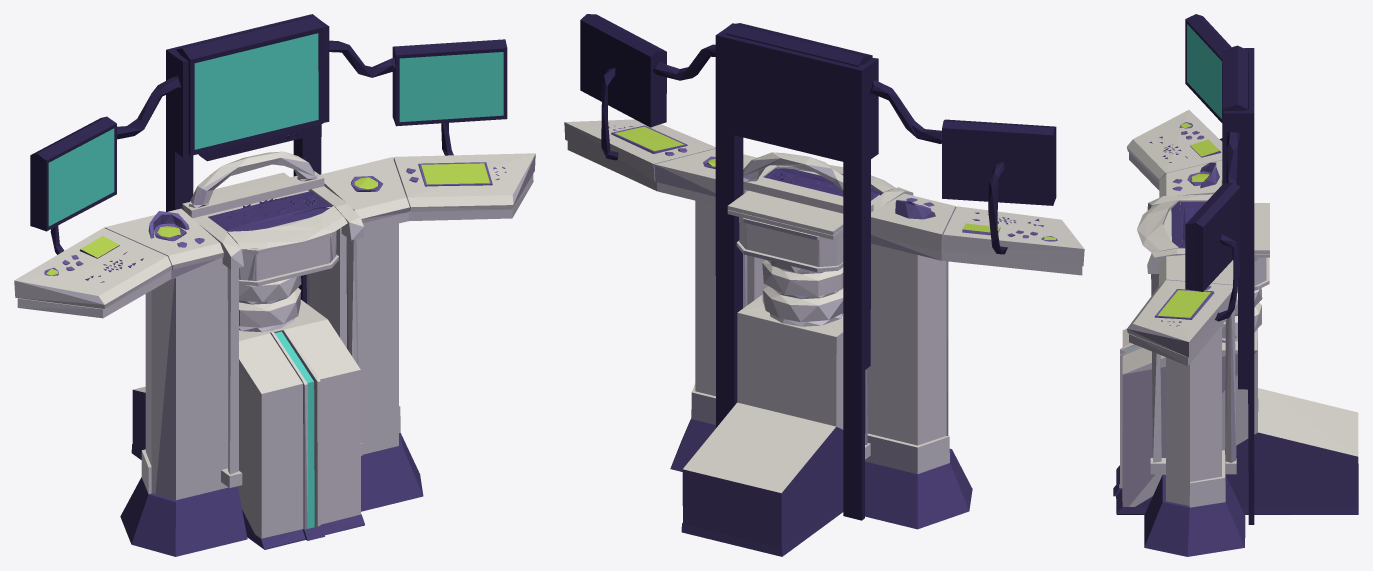
File: consola.glb
The picture shows the model from 3 angles, left to right: view 1: azimuth 30°, elevation 25°; view 2: azimuth 150°, elevation 25°; view 3: azimuth 270°, elevation 25°; orthographic projection. The views are drawn at different scales.
Visible parts, largest first — view 1: consola; view 2: consola; view 3: consola.
Part boxes in pixels (x1,y1,x2,y2): consola: [14, 14, 535, 556]; consola: [564, 14, 1084, 556]; consola: [1113, 14, 1358, 556].
Size of the model in its own units: 1 by 0.8374 by 0.4462.
